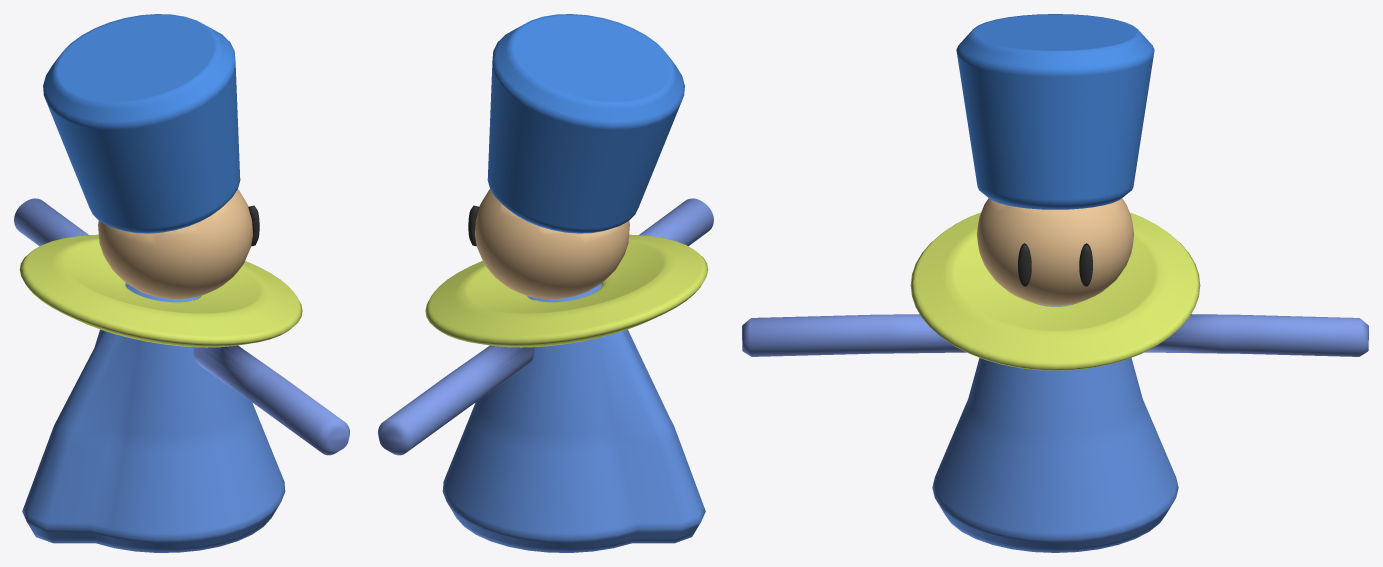
File: mob4.fbx
3 views of the same model, side by side, from view 1: azimuth 30°, elevation 25°; view 2: azimuth 150°, elevation 25°; view 3: azimuth 270°, elevation 25° (orthographic).
Parts seen in each view (by area): view 1: body, hat, Torus, head, arm; view 2: body, hat, Torus, head, arm; view 3: body, hat, Torus, arm, head, eye.
Part boxes in pixels (box(x1,y1,x2,y2)): body: box(22, 284, 285, 552); hat: box(43, 14, 240, 233); Torus: box(19, 234, 302, 347); head: box(98, 189, 252, 299); arm: box(14, 198, 349, 455); body: box(442, 284, 705, 552); hat: box(487, 14, 684, 233); Torus: box(425, 234, 708, 347); head: box(475, 189, 629, 299); arm: box(378, 198, 713, 455); body: box(932, 303, 1178, 552); hat: box(956, 14, 1154, 209); Torus: box(910, 212, 1200, 370); arm: box(742, 314, 1368, 356); head: box(977, 198, 1133, 305); eye: box(1018, 243, 1092, 286).
Bounding box in the file's own units: 182 × 319 × 382.
